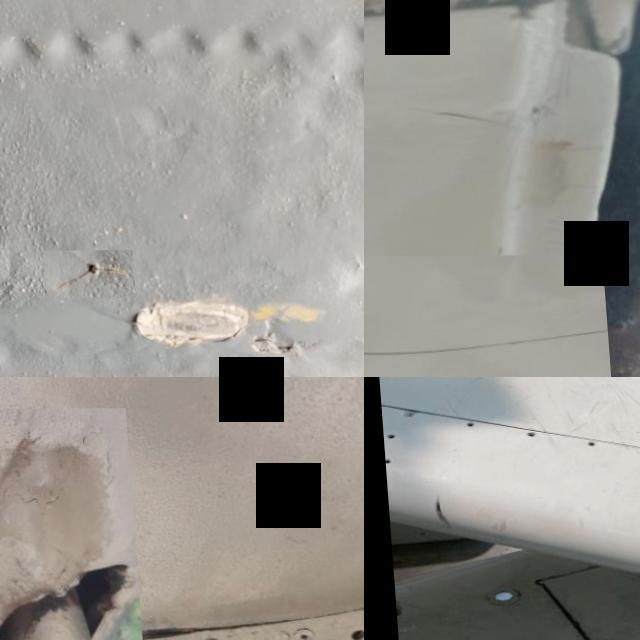Crack: (364, 255, 613, 377), (38, 250, 130, 298)
Dent: (0, 409, 136, 640)
Missing_Fastener: (578, 439, 596, 449), (379, 432, 392, 441), (458, 421, 472, 428), (520, 431, 533, 438), (380, 458, 388, 466)
